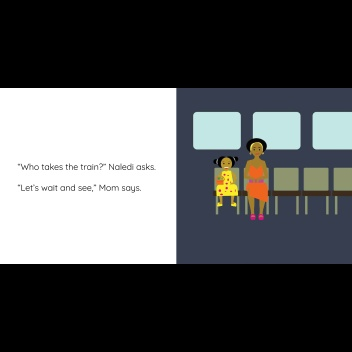latin: (16, 159, 157, 175), (17, 180, 143, 197)
